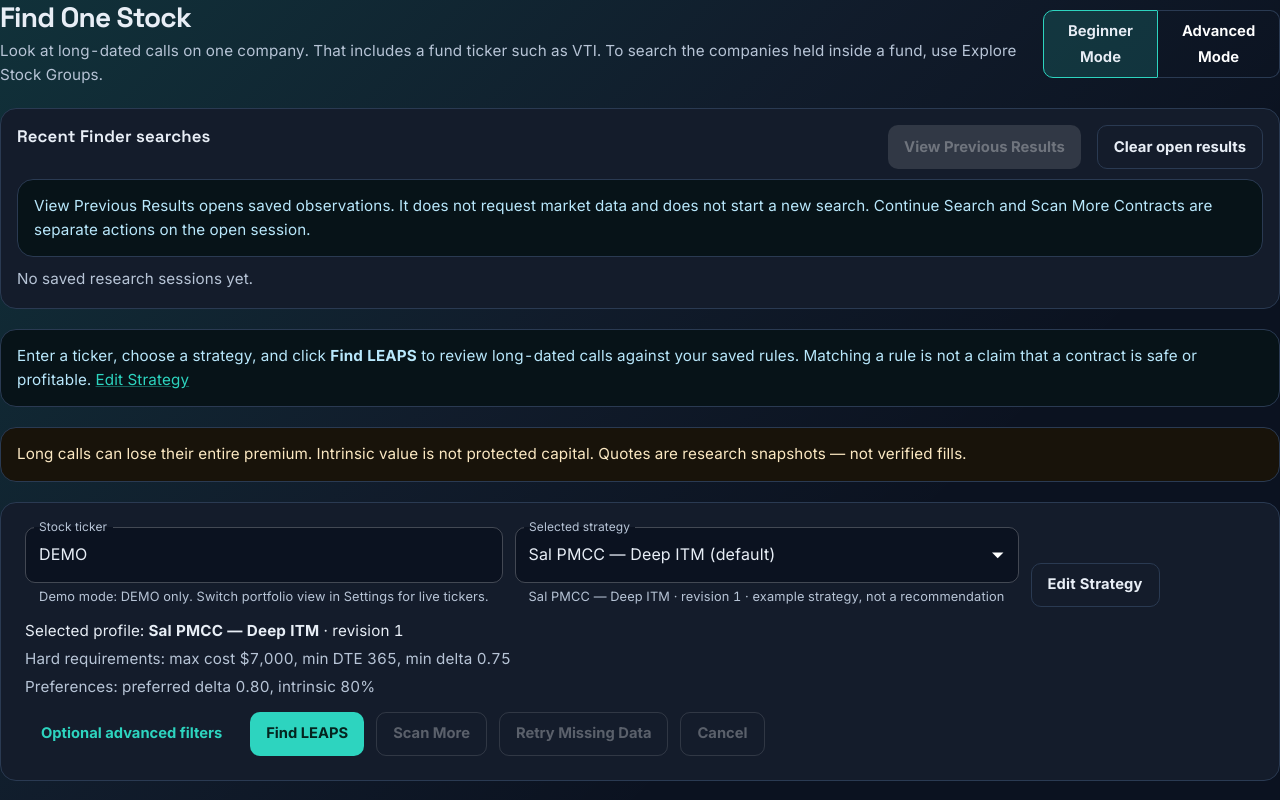
Test case: LEAPS Finder page › explains demo-mode real tickers, install gate, and owner toggle without duplicate setup panels
The image size is (1280, 800).
Later steps or results of the test are not shown.
Clear the field labelled "Stock ticker" at (264, 554), box [25,526,502,582]
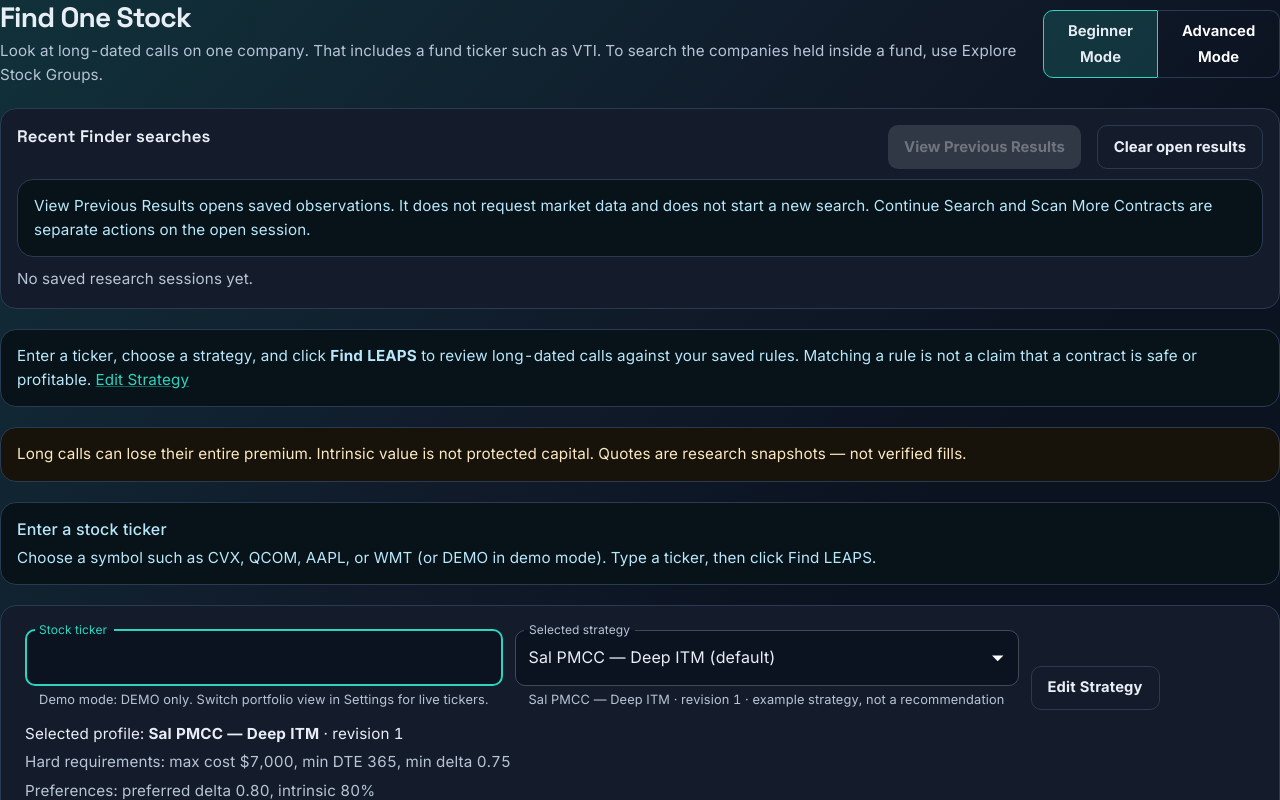
Type "CVX" into the field labelled "Stock ticker" at (264, 658), box [25,630,502,686]
(page scrolled)
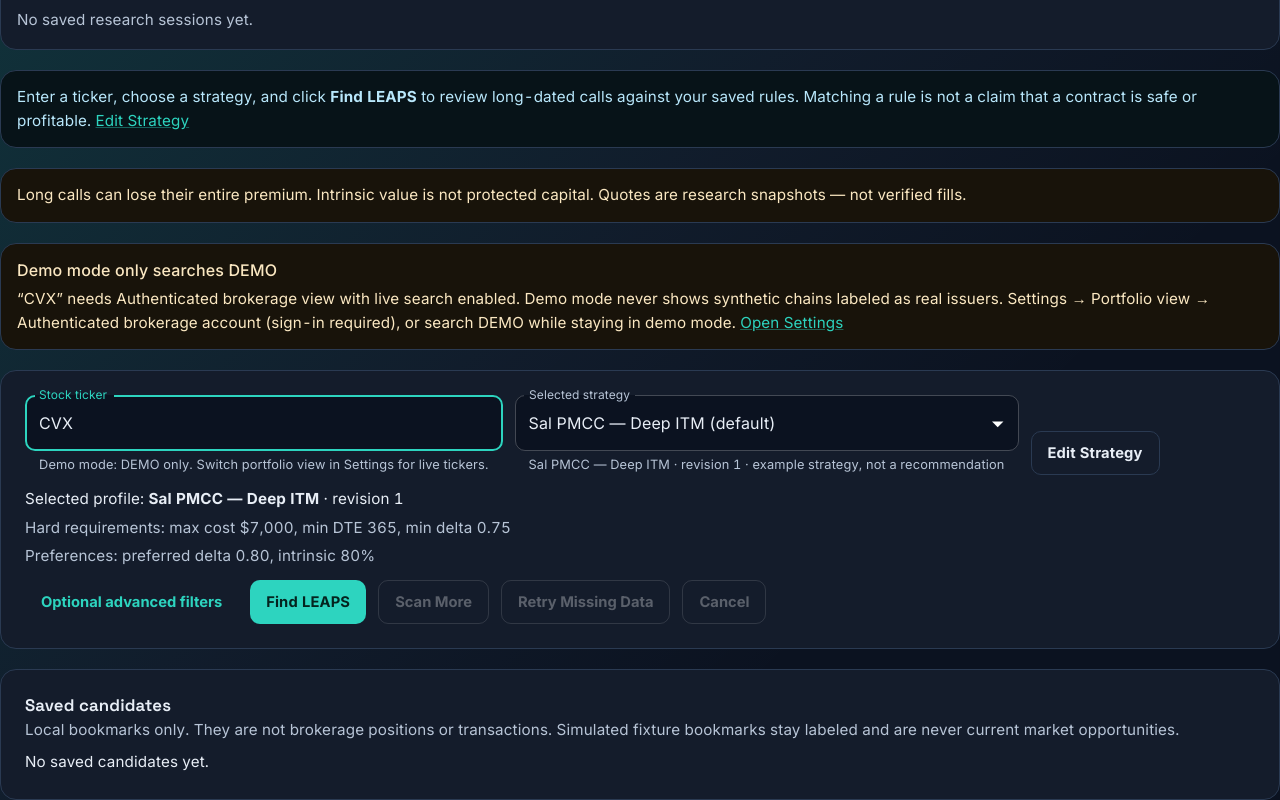
Check: the heading "Demo mode only searches DEMO" is shown, box [17,260,277,280]
